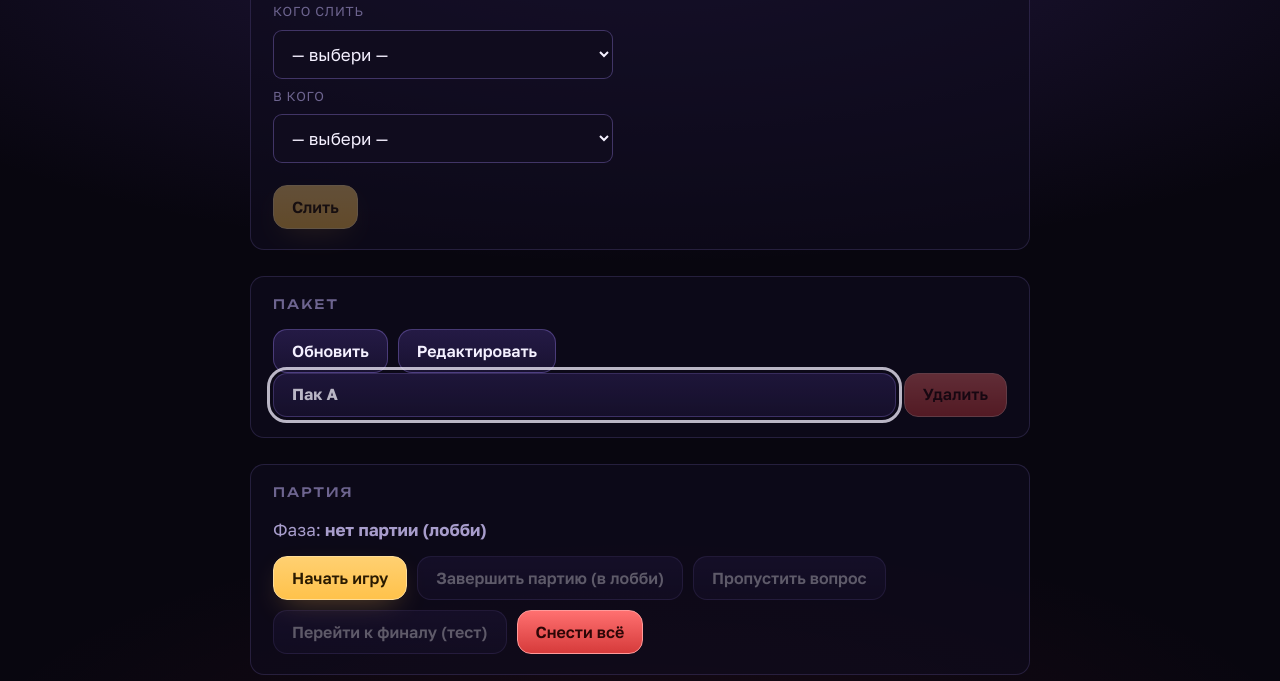
Test: Admin — редактор пакета › opens the edit form with the question’s current values on price click
(page scrolled)
Click the button "Редактировать" at (477, 351), box [398, 329, 556, 373]
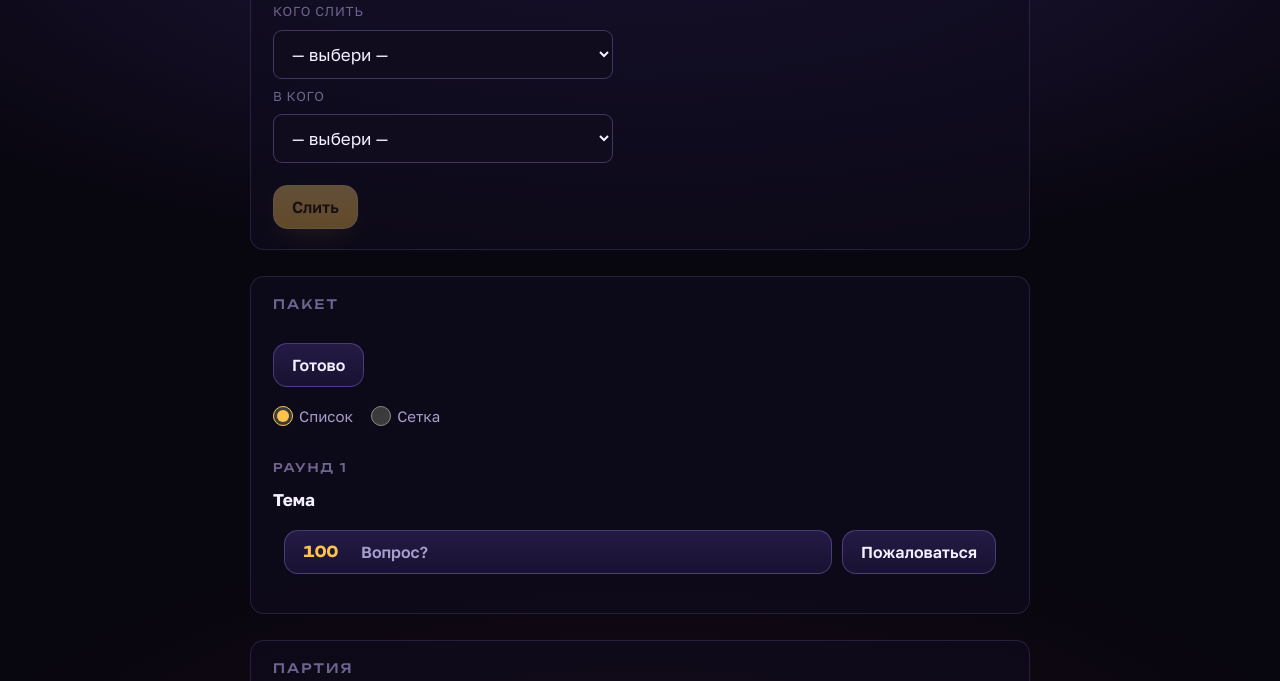
Click the radio button labelled "Сетка" at (381, 416), box [371, 406, 391, 426]
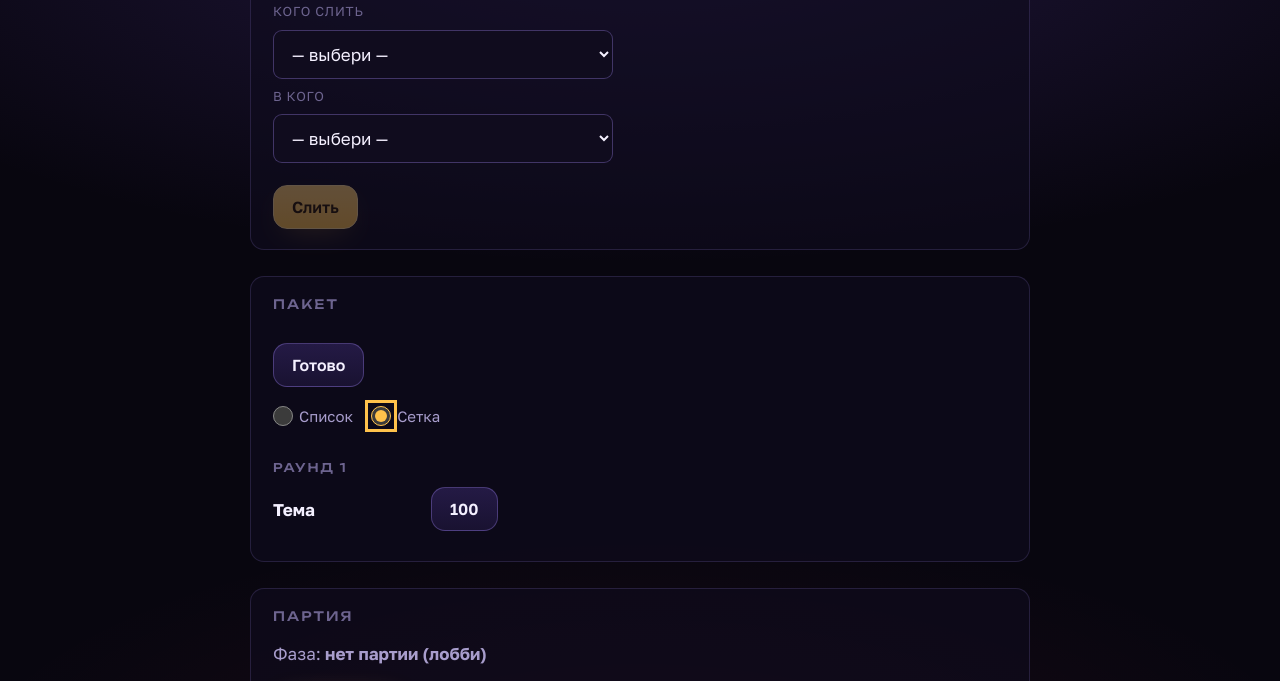
Click the button "100" at (464, 509), box [431, 487, 498, 531]
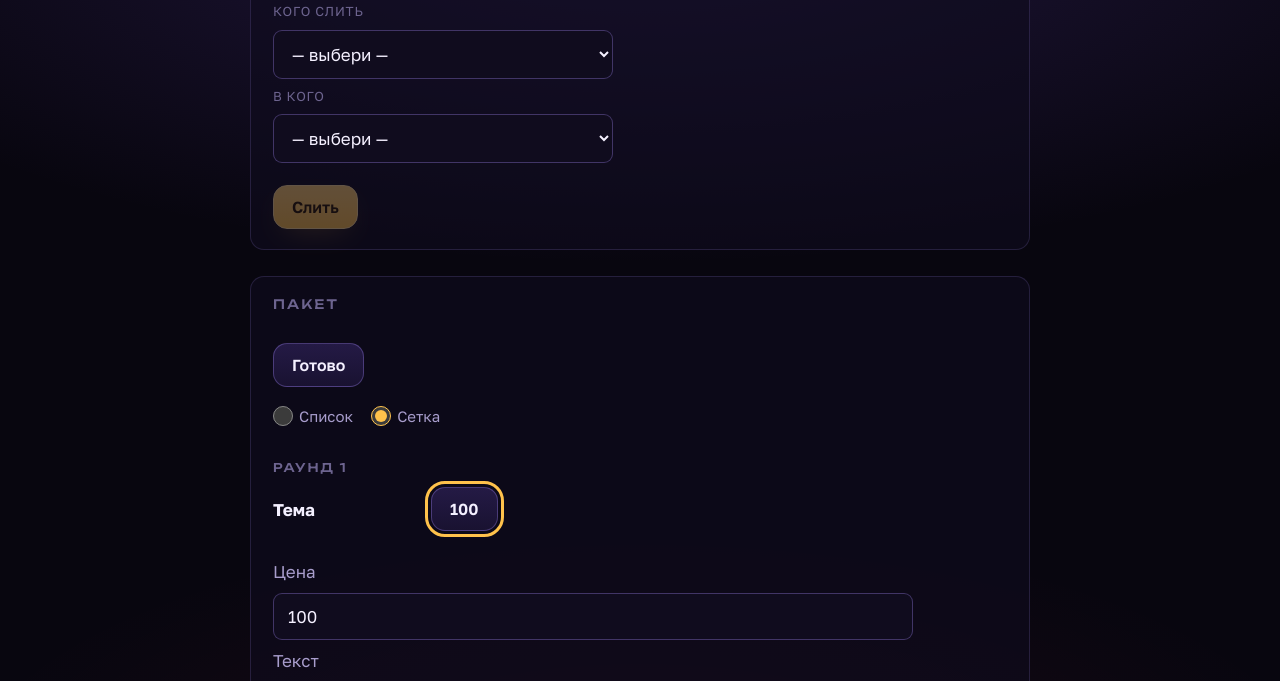
Expected: the number field showing "100" is shown, [273, 593, 913, 640]
